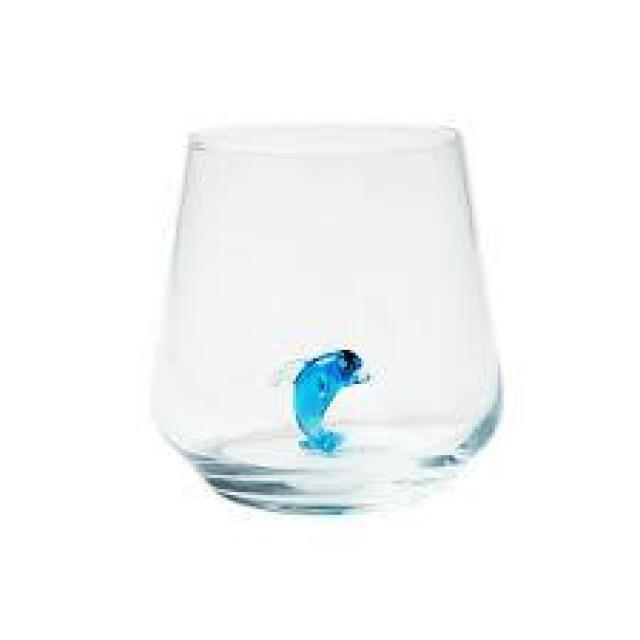glass: (148, 122, 503, 515)
